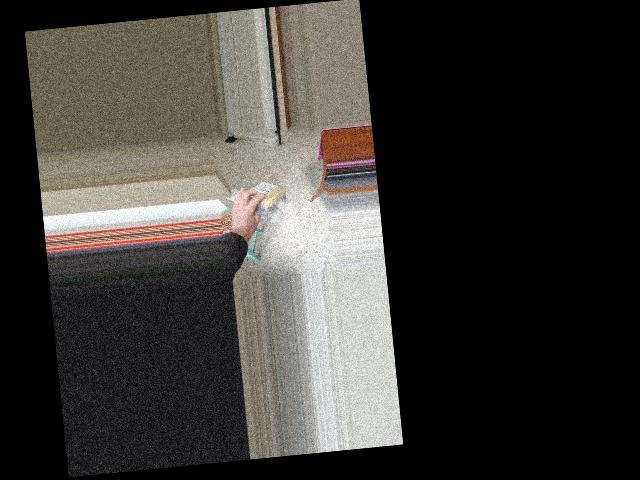cheese: (241, 178, 289, 211)
